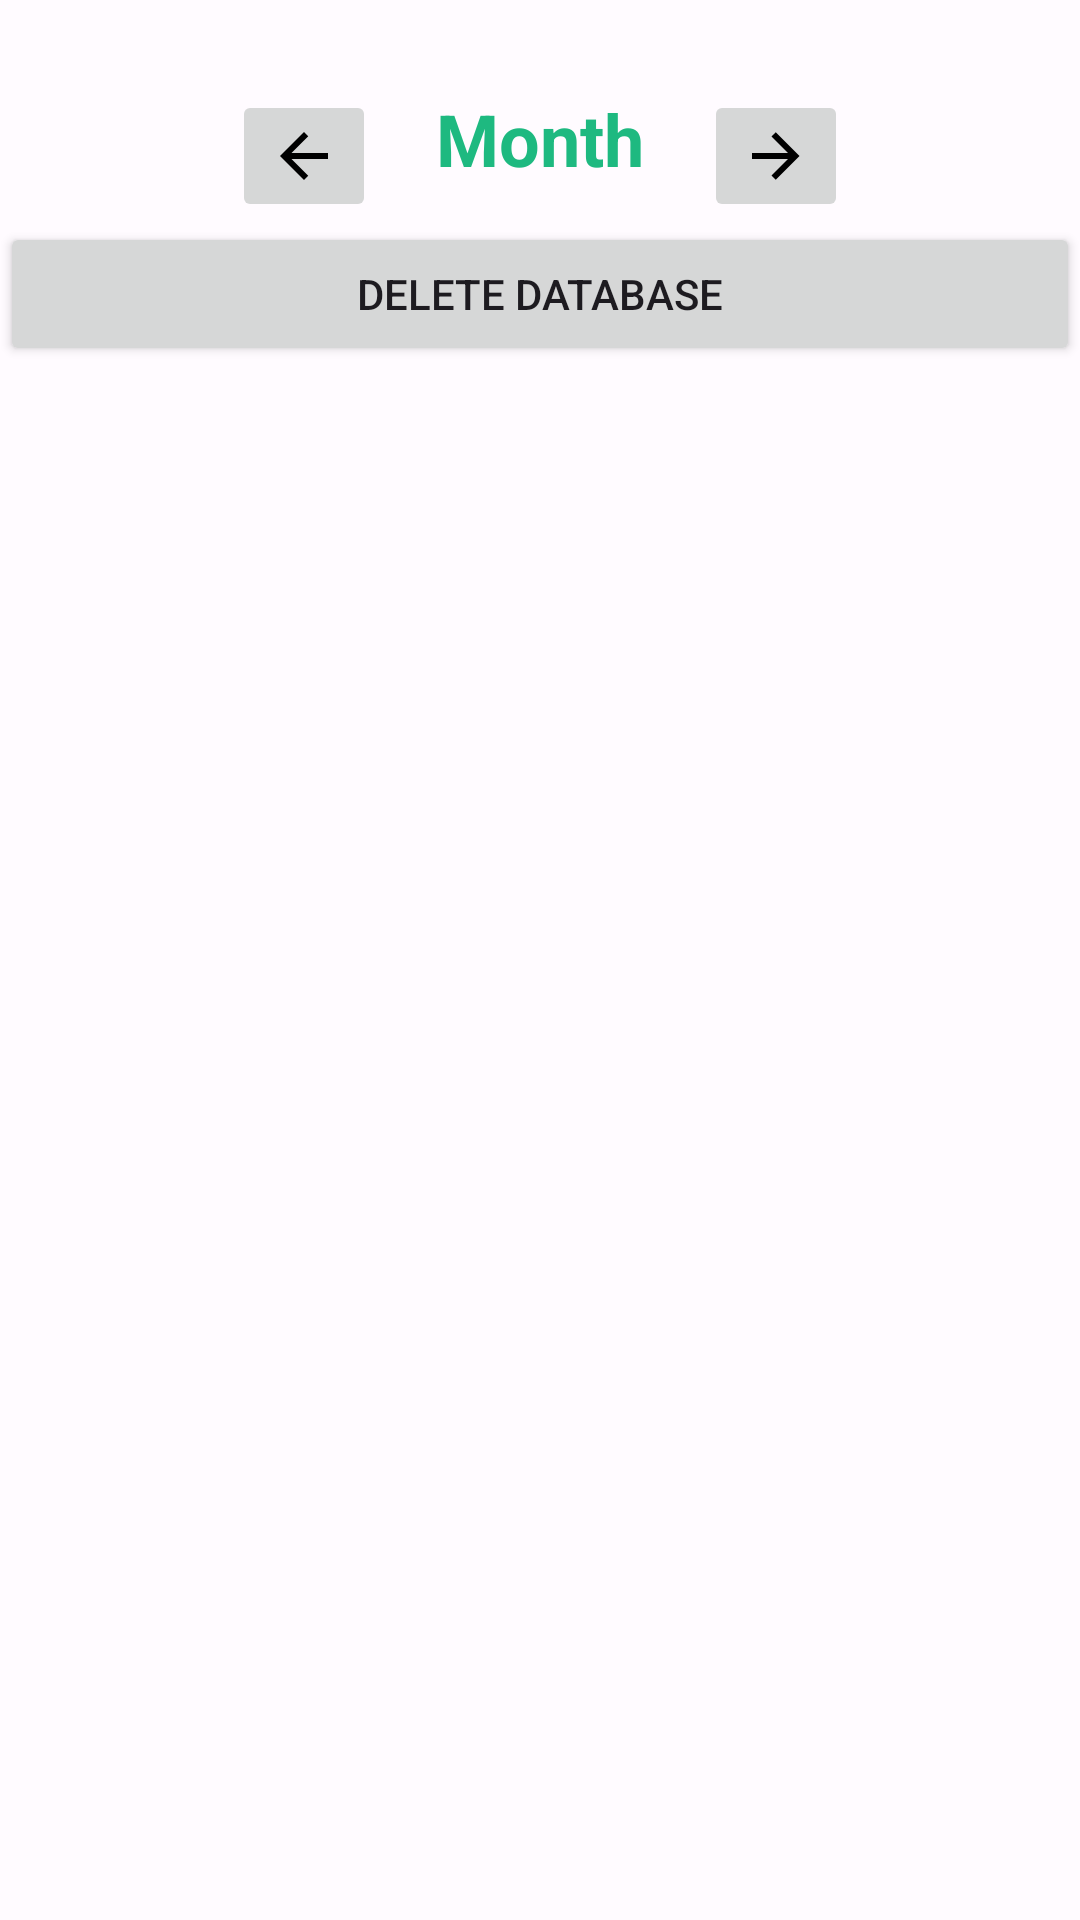

Named icons in this screenshot (1080×1920) and their centers, (x=x, y=y):
arrow left: (x=304, y=156)
arrow right: (x=776, y=156)
